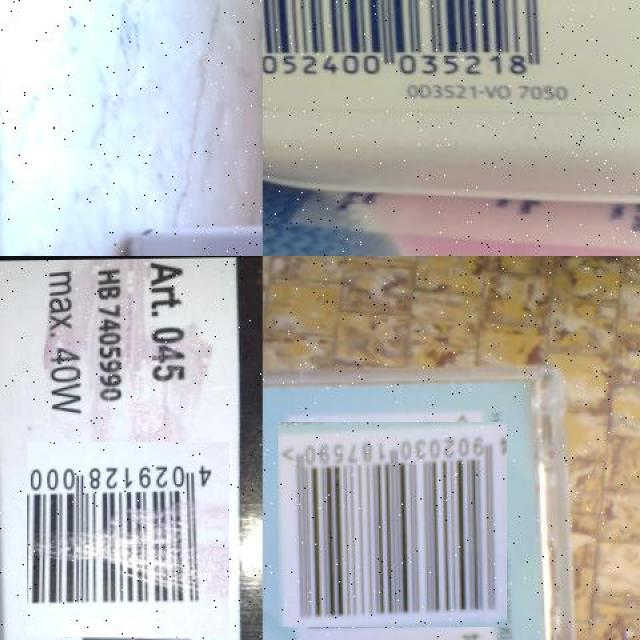Barcode: (284, 416, 501, 634), (29, 440, 228, 638), (263, 0, 581, 81)
